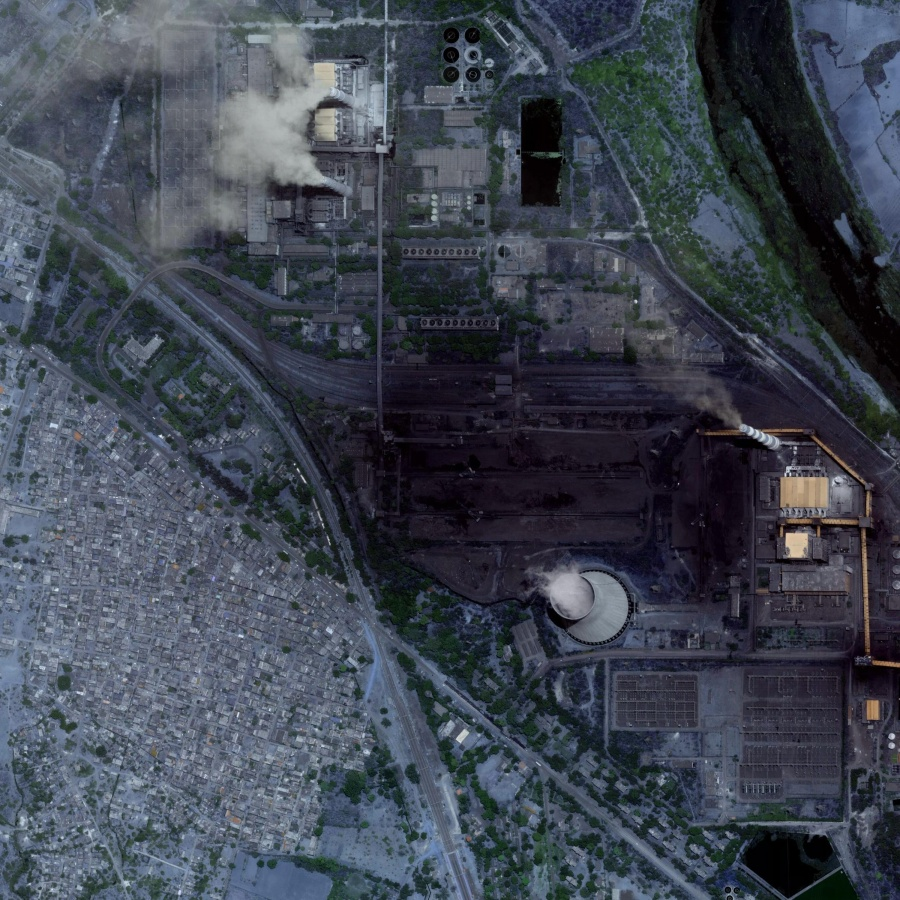PowerPlant: (348, 322, 841, 677)
